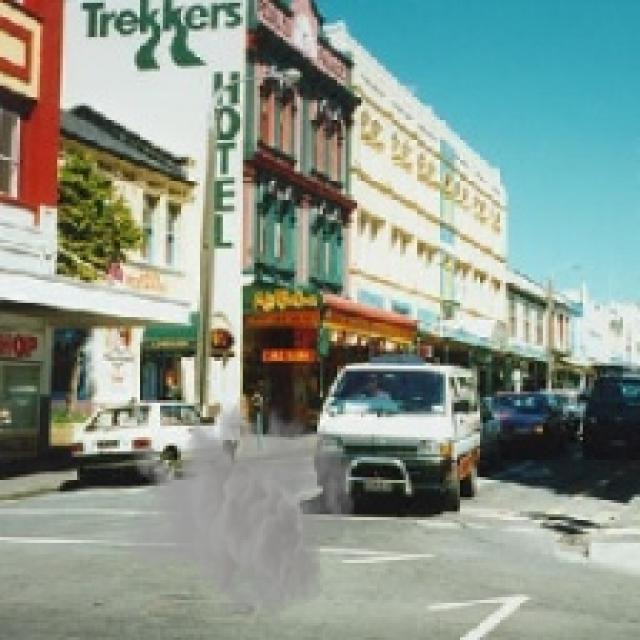Smoke: (122, 382, 358, 628)
